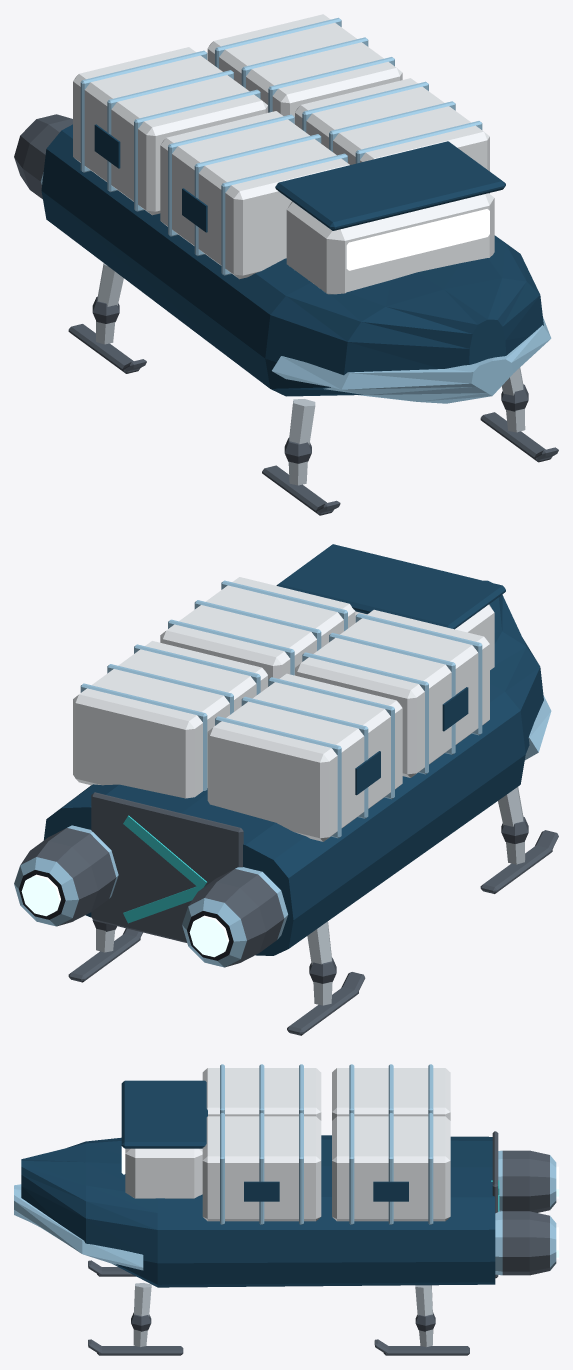
Rendered from fro-f_gelandet.glb.
3 renders of one model, top to bottom at view 1: azimuth 30°, elevation 25°; view 2: azimuth 150°, elevation 25°; view 3: azimuth 270°, elevation 25°, orthographic. The views are drawn at different scales.
Visible parts, largest first — view 1: rumpf, brücke, frachtmodul_2, frachtmodul_4, frachtmodul_3, frachtmodul_1, eisbrecherbug, landebein_2, landebein_4, landebein_1, triebwerk_r; view 2: rumpf, frachtmodul_4, frachtmodul_3, frachtmodul_2, rampe, frachtmodul_1, brücke, triebwerk_r, triebwerk_l, landebein_4, landebein_2, landebein_3 (+1 smaller); view 3: rumpf, frachtmodul_3, frachtmodul_1, brücke, frachtmodul_4, frachtmodul_2, triebwerk_l, triebwerk_r, eisbrecherbug, landebein_1, landebein_3, rampe (+1 smaller).
Boxes of the visible parts, x1,y1,x2,y2 form: rumpf: (41, 124, 543, 396); brücke: (275, 141, 505, 294); frachtmodul_2: (160, 111, 349, 279); frachtmodul_4: (73, 47, 267, 215); frachtmodul_3: (207, 14, 402, 123); frachtmodul_1: (295, 78, 489, 193); eisbrecherbug: (272, 317, 551, 403); landebein_2: (262, 399, 340, 515); landebein_4: (68, 263, 146, 373); landebein_1: (480, 367, 558, 462); triebwerk_r: (14, 114, 72, 199); rumpf: (43, 580, 543, 955); frachtmodul_4: (207, 673, 402, 841); frachtmodul_3: (73, 641, 267, 798); frachtmodul_2: (295, 609, 489, 777); rampe: (91, 792, 243, 942); frachtmodul_1: (160, 577, 355, 686); brücke: (276, 544, 505, 669); triebwerk_r: (182, 867, 288, 967); triebwerk_l: (14, 825, 118, 926); landebein_4: (287, 921, 365, 1035); landebein_2: (480, 787, 558, 893); landebein_3: (68, 919, 142, 982); rumpf: (21, 1135, 495, 1287); frachtmodul_3: (332, 1113, 450, 1224); frachtmodul_1: (202, 1113, 321, 1224); brücke: (121, 1080, 207, 1198); frachtmodul_4: (332, 1064, 450, 1120); frachtmodul_2: (202, 1064, 321, 1120); triebwerk_l: (495, 1211, 558, 1275); triebwerk_r: (498, 1150, 558, 1212); eisbrecherbug: (14, 1184, 143, 1270); landebein_1: (88, 1283, 183, 1355); landebein_3: (374, 1285, 469, 1355); rampe: (491, 1131, 499, 1278).
Bounding box in the file's own units: 0.0795 × 0.078 × 0.1896.
